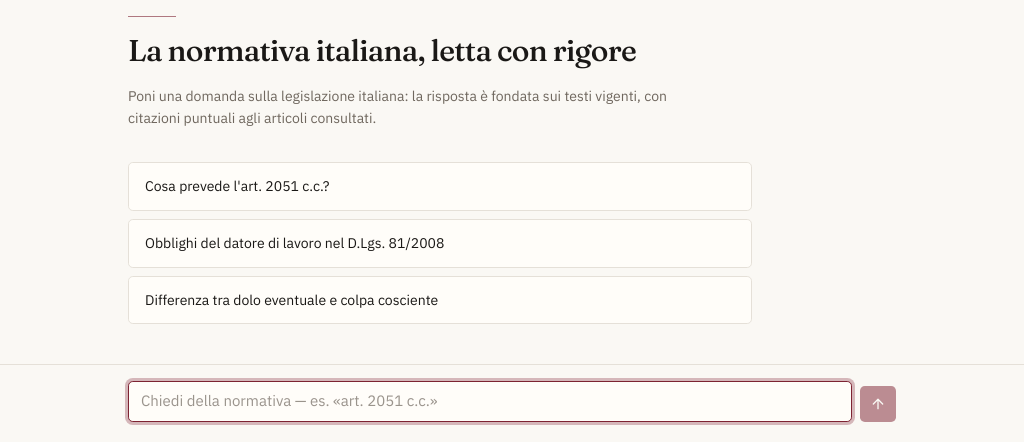
Scenario: Chat › empty state: il click su un suggerimento riempie il composer senza inviare
What coordinates should you click on to do the following:
click the button "Cosa prevede l'art. 2051 c.c.?"
I would click on:
 (237, 186)
Its box is [128,162,752,211].
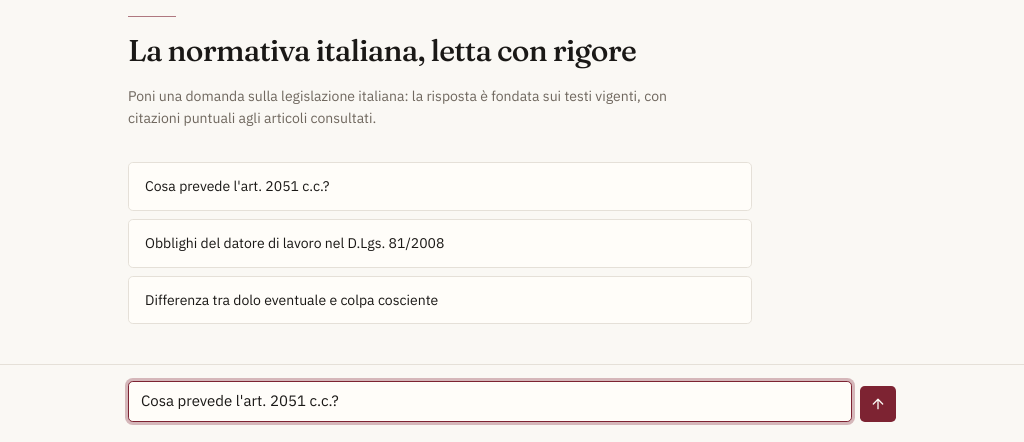
Now the text box named "Domanda sulla normativa" holds "Cosa prevede l'art. 2051 c.c.?", box [128,381,852,422]
